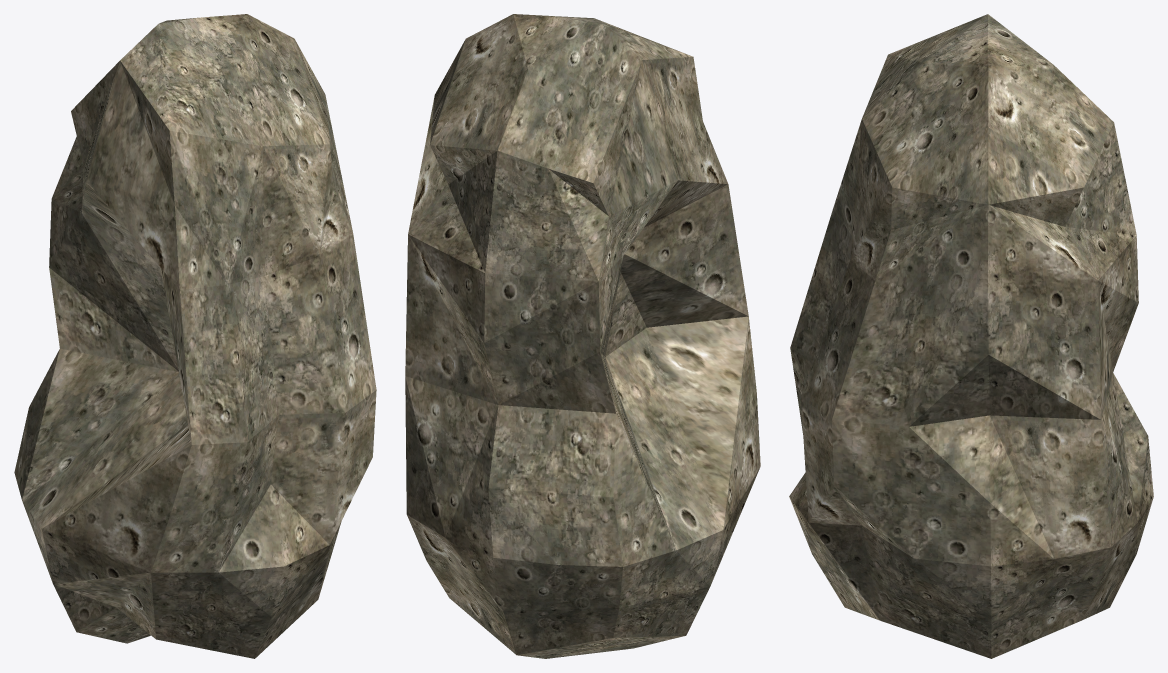
Rendered from asteroid_all_large_02_l1.fbx.
3 views of the same model, side by side, from view 1: azimuth 30°, elevation 25°; view 2: azimuth 150°, elevation 25°; view 3: azimuth 270°, elevation 25° (orthographic).
Visible parts, largest first — view 1: mesh_node; view 2: mesh_node; view 3: mesh_node.
Boxes of the visible parts, left/top/right/bottom form: mesh_node: left=14, top=14, right=376, bottom=658; mesh_node: left=405, top=14, right=760, bottom=658; mesh_node: left=789, top=14, right=1153, bottom=658.
Size of the model in its own units: 73.22 by 147 by 80.05.
